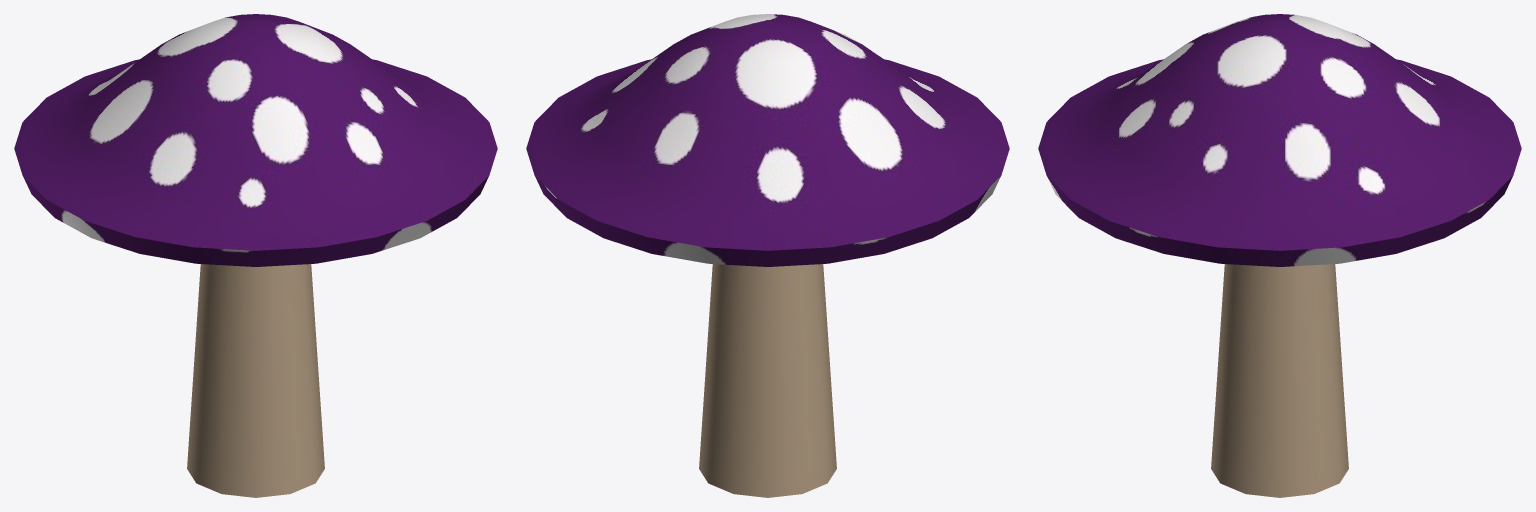
The model's file is mushroomPurple.fbx.
The picture shows the model from 3 angles, left to right: view 1: azimuth 30°, elevation 25°; view 2: azimuth 150°, elevation 25°; view 3: azimuth 270°, elevation 25°; orthographic projection.
Visible parts, largest first — view 1: mushroonPurple_1; view 2: mushroonPurple_1; view 3: mushroonPurple_1.
Boxes of the visible parts, left/top/right/bottom form: mushroonPurple_1: left=14, top=14, right=497, bottom=497; mushroonPurple_1: left=526, top=14, right=1009, bottom=497; mushroonPurple_1: left=1038, top=14, right=1521, bottom=497.
Size of the model in its own units: 200 by 203 by 200.
1 material, 1 textured.
